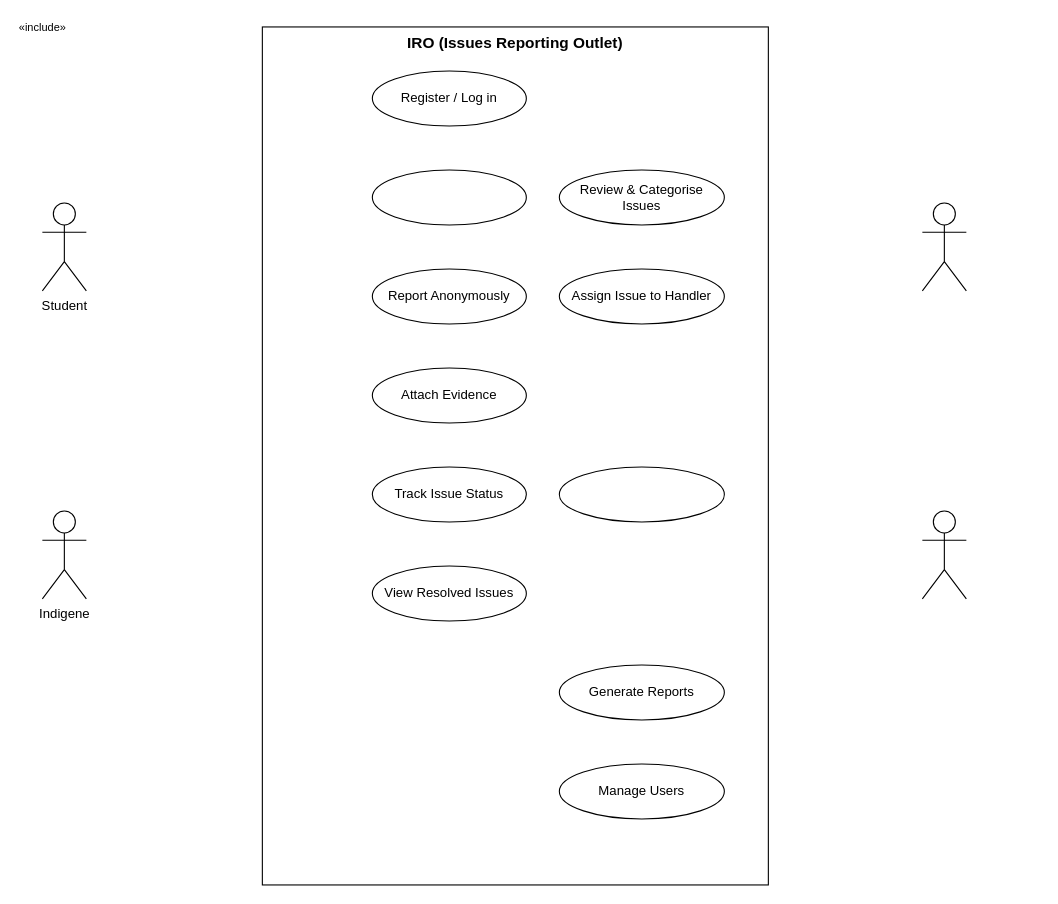
Image size: 1058x904. Some labels were removed from this diagram. The centre of each missing label's shape, as x and y in pixels:
"Administrator" belongs at (943,246).
"Issue Handler (Management / Union / Leaders)" belongs at (943,554).
"Submit Issue" belongs at (448,197).
"Update Status / Respond" belongs at (641,494).
